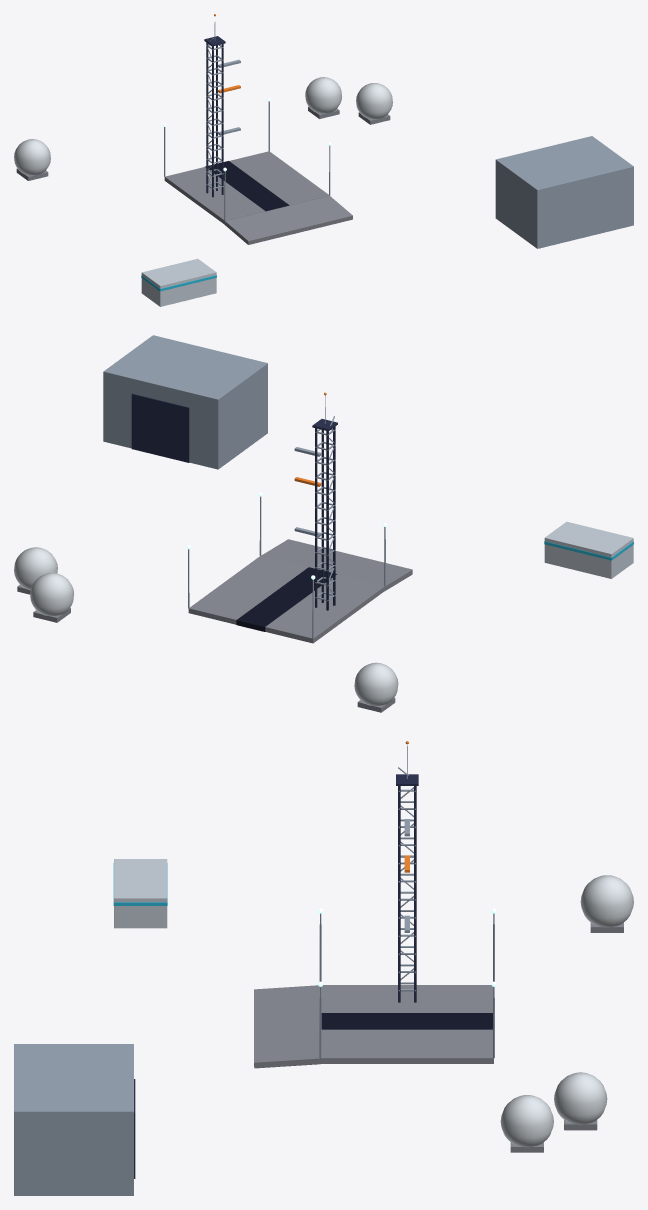
File: plataforma.glb
The picture shows the model from 3 angles, top to bottom: view 1: azimuth 30°, elevation 25°; view 2: azimuth 150°, elevation 25°; view 3: azimuth 270°, elevation 25°; orthographic projection. The views are drawn at different scales.
Visible parts, largest first — view 1: hangar, plataforma_base, plataforma_rampa, edificio_control, plataforma_foso, tanque_0, tanque_1, tanque_2, torre_columna_1; view 2: hangar, plataforma_base, edificio_control, hangar_puerta, plataforma_rampa, plataforma_foso, tanque_2, tanque_0, tanque_1, torre_columna_2; view 3: hangar, plataforma_base, plataforma_rampa, edificio_control, plataforma_foso, tanque_0, tanque_2, tanque_1, torre_columna_1, torre_columna_3.
Boxes of the visible parts, x1=… form: hangar: x1=495, y1=136, x2=633, y2=248; plataforma_base: x1=164, y1=151, x2=329, y2=224; plataforma_rampa: x1=225, y1=195, x2=352, y2=244; edificio_control: x1=141, y1=258, x2=216, y2=306; plataforma_foso: x1=205, y1=161, x2=289, y2=211; tanque_0: x1=305, y1=77, x2=341, y2=113; tanque_1: x1=356, y1=83, x2=392, y2=119; tanque_2: x1=14, y1=139, x2=50, y2=175; torre_columna_1: x1=221, y1=44, x2=223, y2=194; hangar: x1=103, y1=335, x2=267, y2=469; plataforma_base: x1=188, y1=556, x2=384, y2=643; edificio_control: x1=544, y1=521, x2=633, y2=578; hangar_puerta: x1=131, y1=393, x2=189, y2=462; plataforma_rampa: x1=261, y1=539, x2=412, y2=590; plataforma_foso: x1=236, y1=567, x2=336, y2=631; tanque_2: x1=354, y1=662, x2=398, y2=705; tanque_0: x1=30, y1=573, x2=73, y2=615; tanque_1: x1=14, y1=547, x2=57, y2=590; torre_columna_2: x1=326, y1=431, x2=328, y2=610; hangar: x1=14, y1=1044, x2=133, y2=1195; plataforma_base: x1=320, y1=985, x2=493, y2=1063; plataforma_rampa: x1=254, y1=985, x2=320, y2=1068; edificio_control: x1=114, y1=859, x2=167, y2=928; plataforma_foso: x1=321, y1=1013, x2=492, y2=1029; tanque_0: x1=554, y1=1072, x2=607, y2=1124; tanque_2: x1=580, y1=875, x2=633, y2=927; tanque_1: x1=500, y1=1095, x2=553, y2=1147; torre_columna_1: x1=398, y1=786, x2=400, y2=1002; torre_columna_3: x1=414, y1=786, x2=416, y2=1002.
Size of what is drawn, in the model's own units: 109 by 44.4 by 93.
